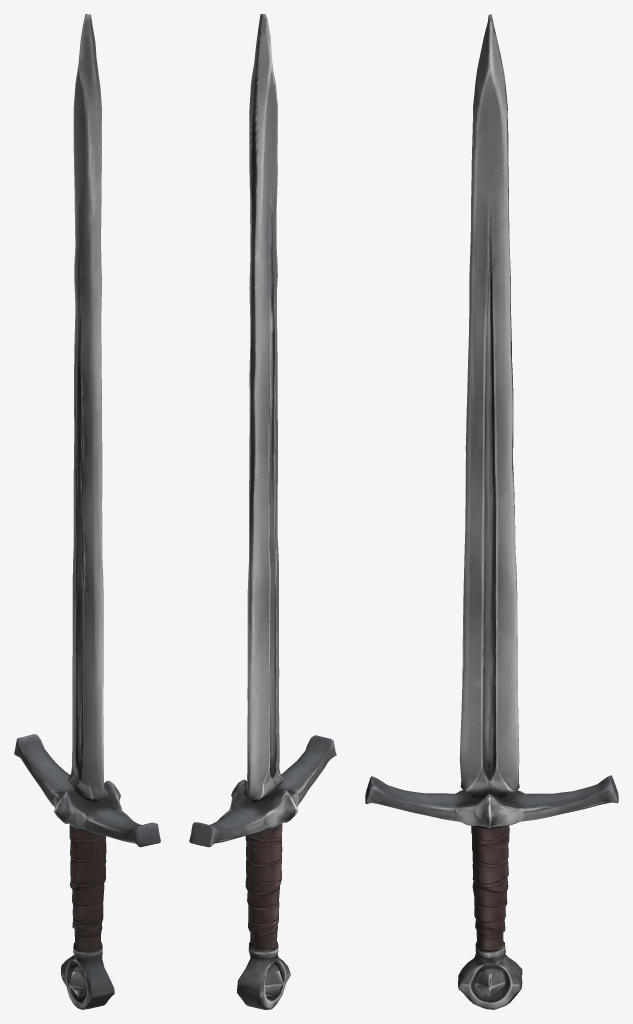
The model's file is ringed_sword.glb.
The picture shows the model from 3 angles, left to right: view 1: azimuth 30°, elevation 25°; view 2: azimuth 150°, elevation 25°; view 3: azimuth 270°, elevation 25°; orthographic projection.
Parts seen in each view (by area): view 1: ringed_sword; view 2: ringed_sword; view 3: ringed_sword.
Boxes of the visible parts, bbox=[...] form: ringed_sword: bbox=[14, 14, 160, 1009]; ringed_sword: bbox=[189, 14, 336, 1009]; ringed_sword: bbox=[365, 14, 618, 1009].
Bounding box in the file's own units: 0.0483 × 0.6844 × 0.1587.
Materials: 1 (1 with a texture image).
